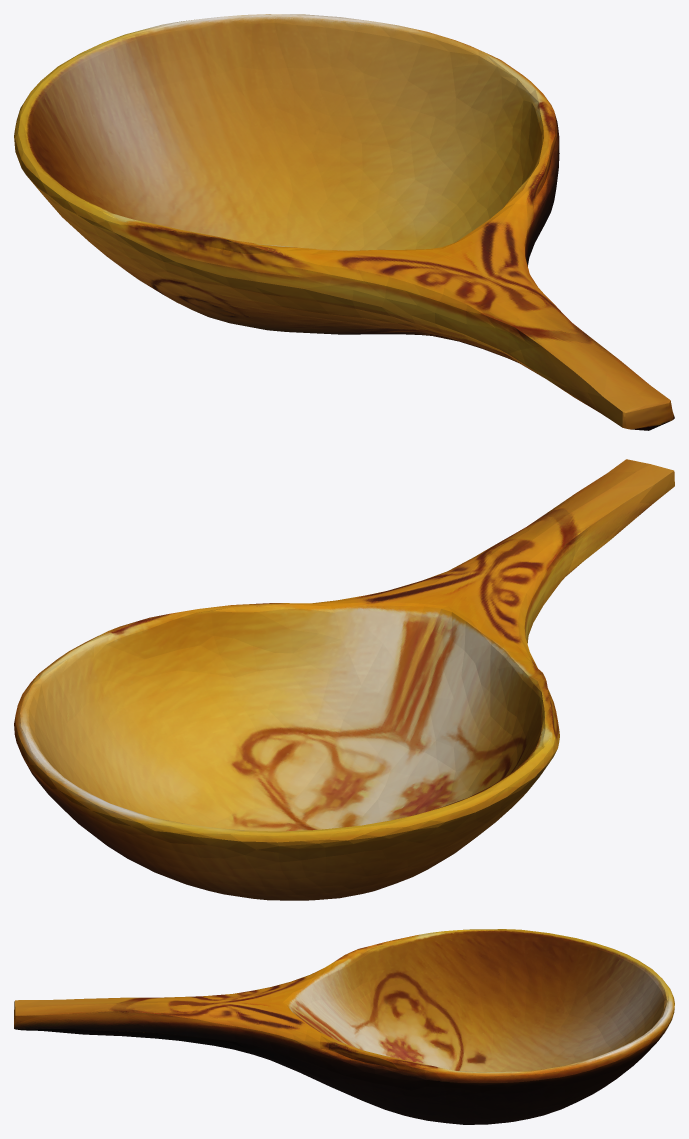
File: wooden-spoon-vintage.jpeg.glb
3 renders of one model, top to bottom at view 1: azimuth 30°, elevation 25°; view 2: azimuth 150°, elevation 25°; view 3: azimuth 270°, elevation 25°, orthographic. The views are drawn at different scales.
Visible parts, largest first — view 1: world; view 2: world; view 3: world.
Boxes of the visible parts, left/top/right/bottom form: world: left=14, top=14, right=674, bottom=430; world: left=14, top=459, right=674, bottom=900; world: left=14, top=929, right=674, bottom=1124.
Bounding box in the file's own units: 0.5394 × 0.1759 × 1.
1 material, 1 textured.
